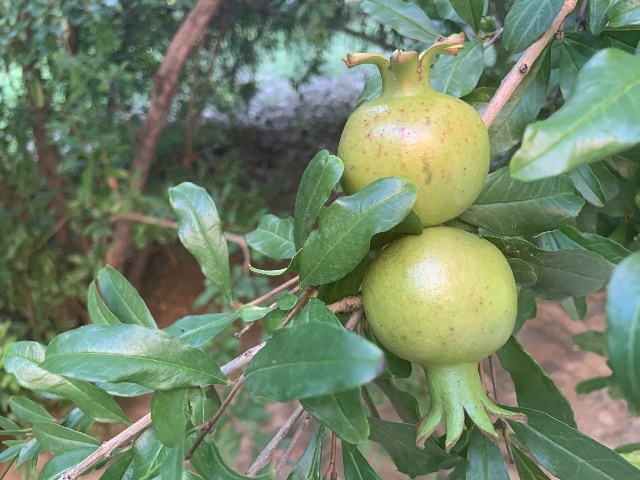mid-growth: (360, 226, 528, 454), (337, 31, 490, 227)
